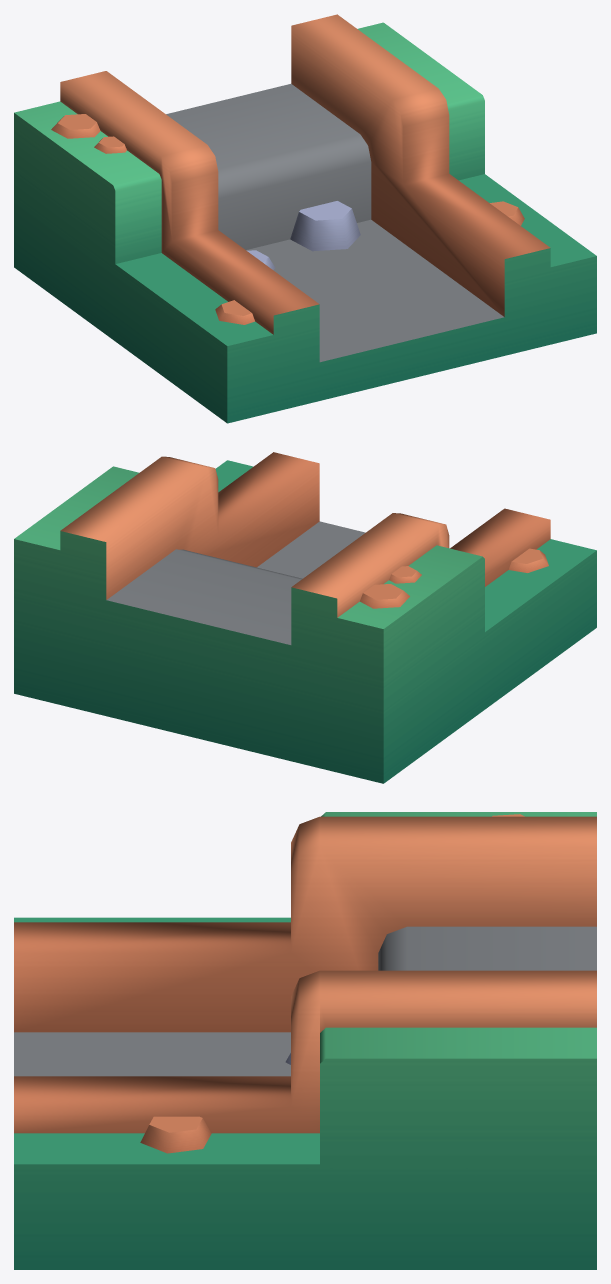
File: tile-river-waterfall.fbx
3 renders of one model, top to bottom at view 1: azimuth 30°, elevation 25°; view 2: azimuth 150°, elevation 25°; view 3: azimuth 270°, elevation 25°, orthographic. The views are drawn at different scales.
Visible parts, largest first — view 1: tile-river-waterfall; view 2: tile-river-waterfall; view 3: tile-river-waterfall.
Boxes of the visible parts, x1=… form: tile-river-waterfall: x1=14, y1=14, x2=596, y2=423; tile-river-waterfall: x1=14, y1=452, x2=596, y2=783; tile-river-waterfall: x1=14, y1=812, x2=596, y2=1269.
Size of the model in its own units: 100 by 45 by 100.
